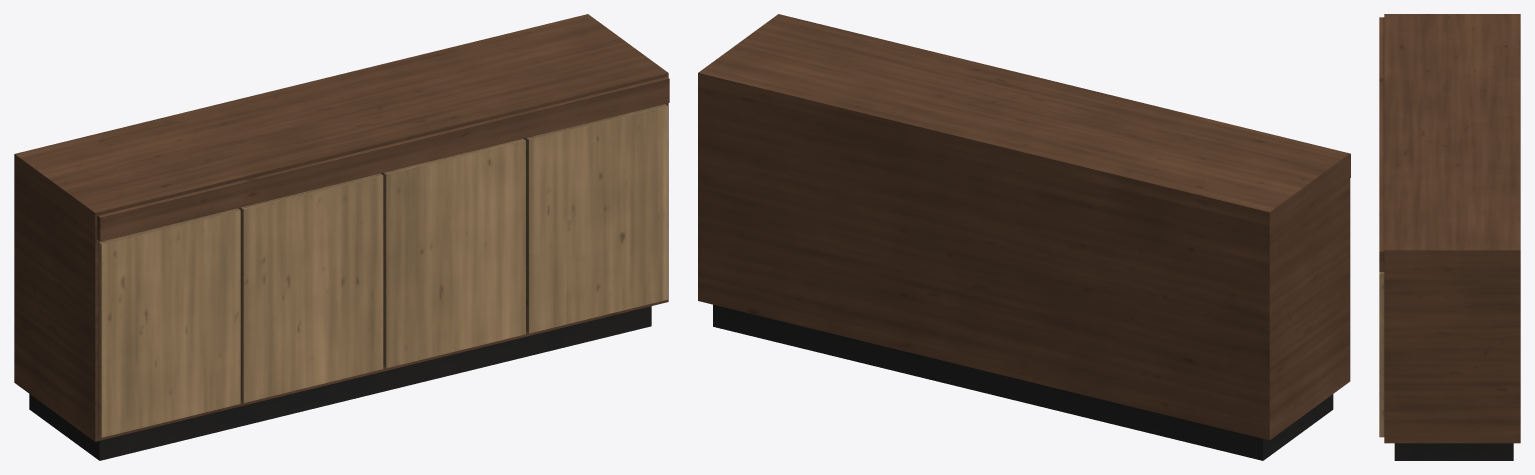
File: H_TVConsole.fbx
3 views of the same model, side by side, from view 1: azimuth 30°, elevation 25°; view 2: azimuth 150°, elevation 25°; view 3: azimuth 270°, elevation 25° (orthographic). The views are drawn at different scales.
Parts seen in each view (by area): view 1: H_TVConsole; view 2: H_TVConsole; view 3: H_TVConsole.
Boxes of the visible parts, x1=… form: H_TVConsole: x1=14, y1=14, x2=669, y2=460; H_TVConsole: x1=698, y1=14, x2=1350, y2=460; H_TVConsole: x1=1379, y1=14, x2=1520, y2=460.
Size of the model in its own units: 800 by 340 by 202.
Materials: 1 (1 with a texture image).
